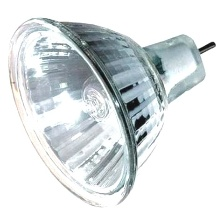light_bulb: (4, 5, 219, 215)
